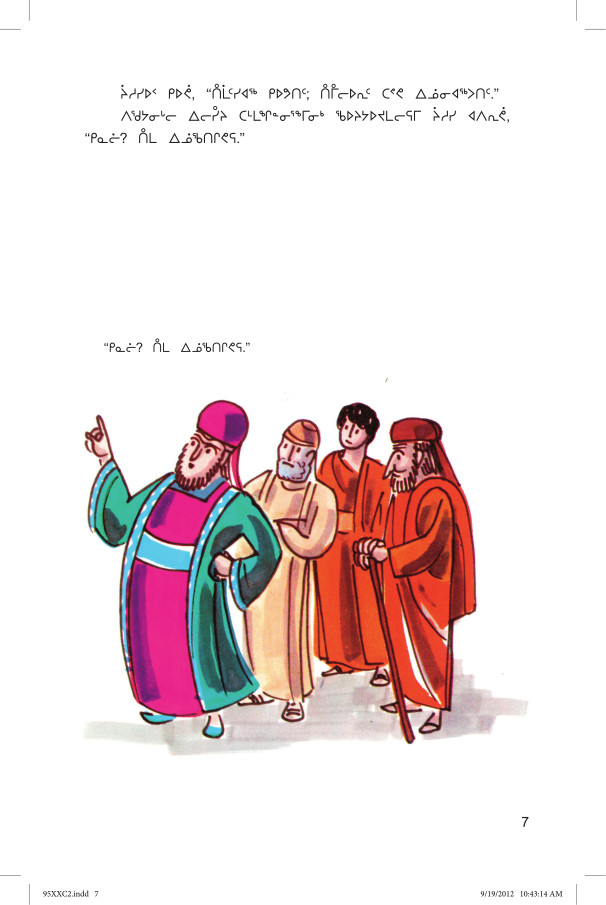inuktitut: (79, 74, 517, 155), (96, 334, 258, 359)
